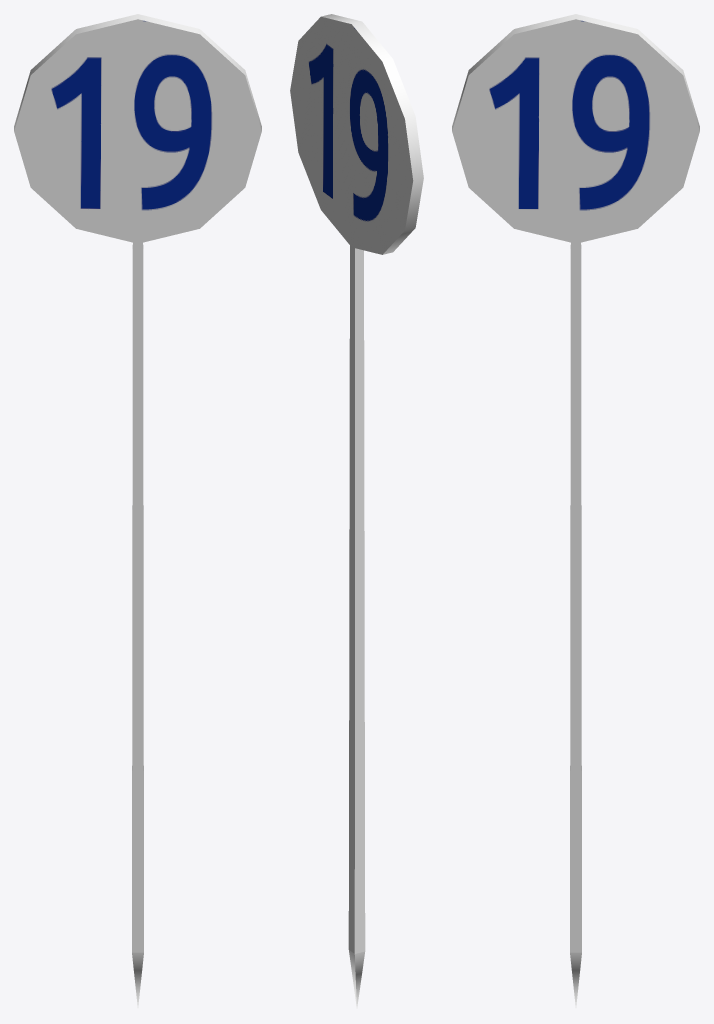
File: Marker_Shot_Put_19.FBX
3 views of the same model, side by side, from view 1: azimuth 90°, elevation 25°; view 2: azimuth 210°, elevation 25°; view 3: azimuth 270°, elevation 25° (orthographic).
Visible parts, largest first — view 1: Marker_Shot_Put_19; view 2: Marker_Shot_Put_19; view 3: Marker_Shot_Put_19.
Part boxes in pixels (x1,y1,x2,y2): Marker_Shot_Put_19: (14, 14, 261, 1007); Marker_Shot_Put_19: (290, 14, 423, 1008); Marker_Shot_Put_19: (452, 14, 699, 1007).
Size of the model in its own units: 0.1115 by 9.84 by 2.22.
